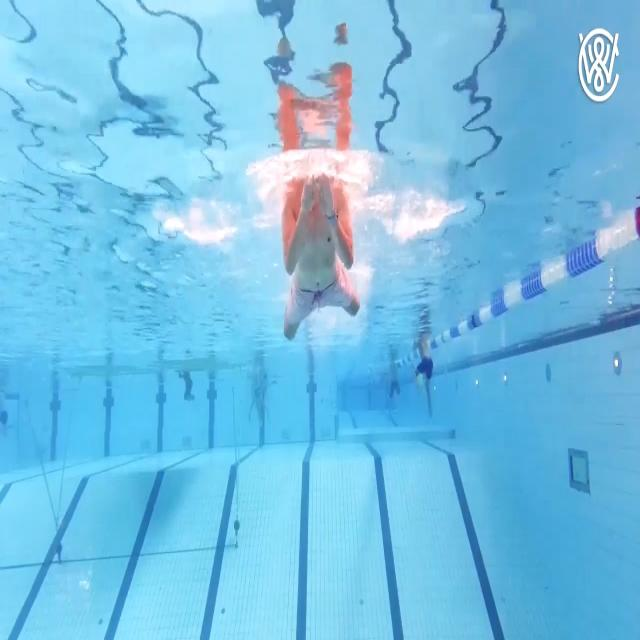Swimming: (279, 180, 361, 342), (413, 326, 437, 416)
